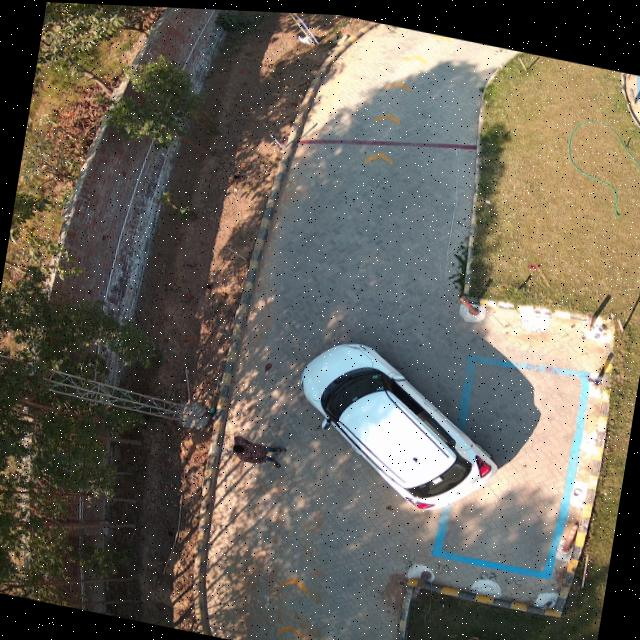car: (303, 339, 497, 505)
